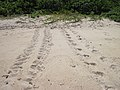human_foot_print: (61, 30, 113, 89), (6, 31, 38, 85), (27, 30, 50, 86)
